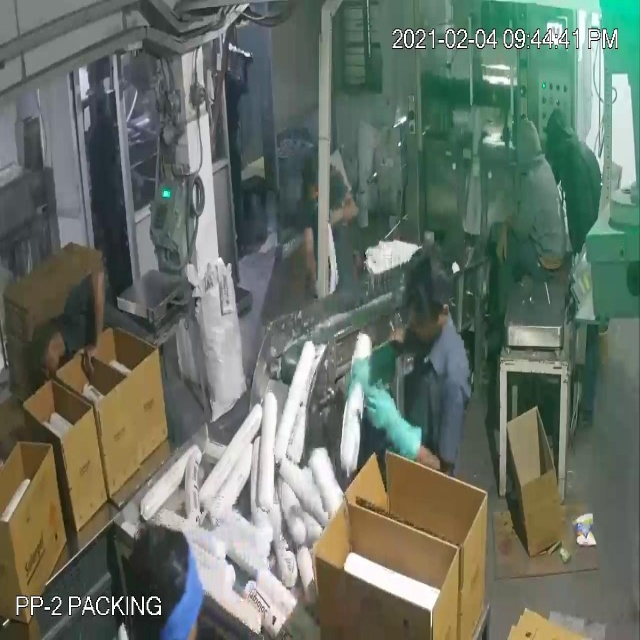Guantes: (358, 360, 427, 470)
Sin_guantes: (84, 254, 109, 381), (319, 192, 364, 239), (301, 204, 321, 308)
